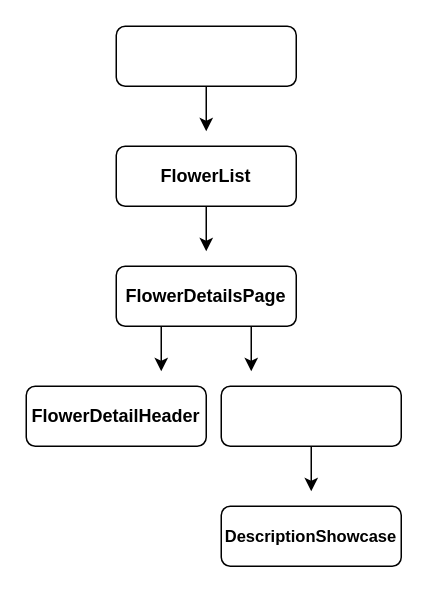
Some shapes in this 428 by 593 pixel diagram are drawn without their labels. Each missing label, with the centre of its shape:
FlowerShowcase: (x=310, y=415)
MaterialApp: (x=205, y=55)
